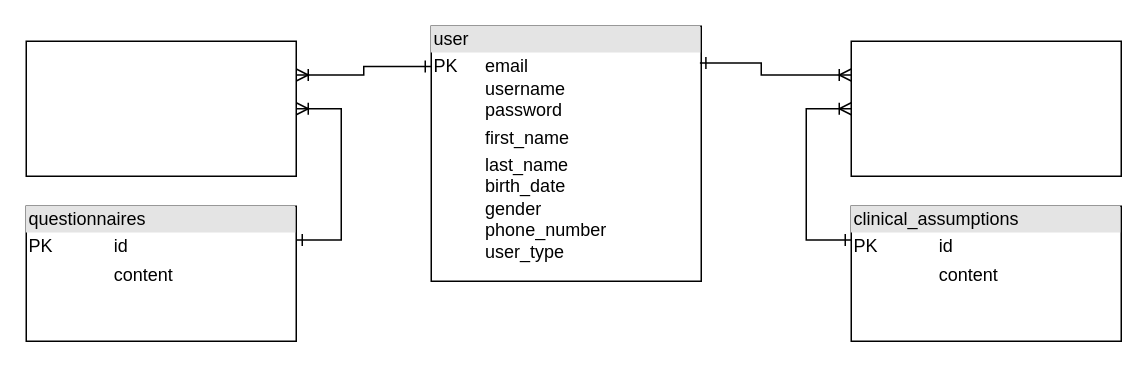
This 1148x368 diagram has some shape labels left out. Each missing label, with the centre of its shape:
"clinical_assumptions_users PK email PK clinical_assumptions_id" goes at [985,108].
"questionnaires_users PK email PK questionnaire_id" goes at [160,108].
